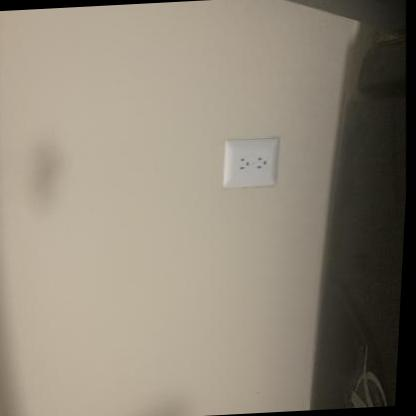OUTLET: (219, 138, 280, 189)
